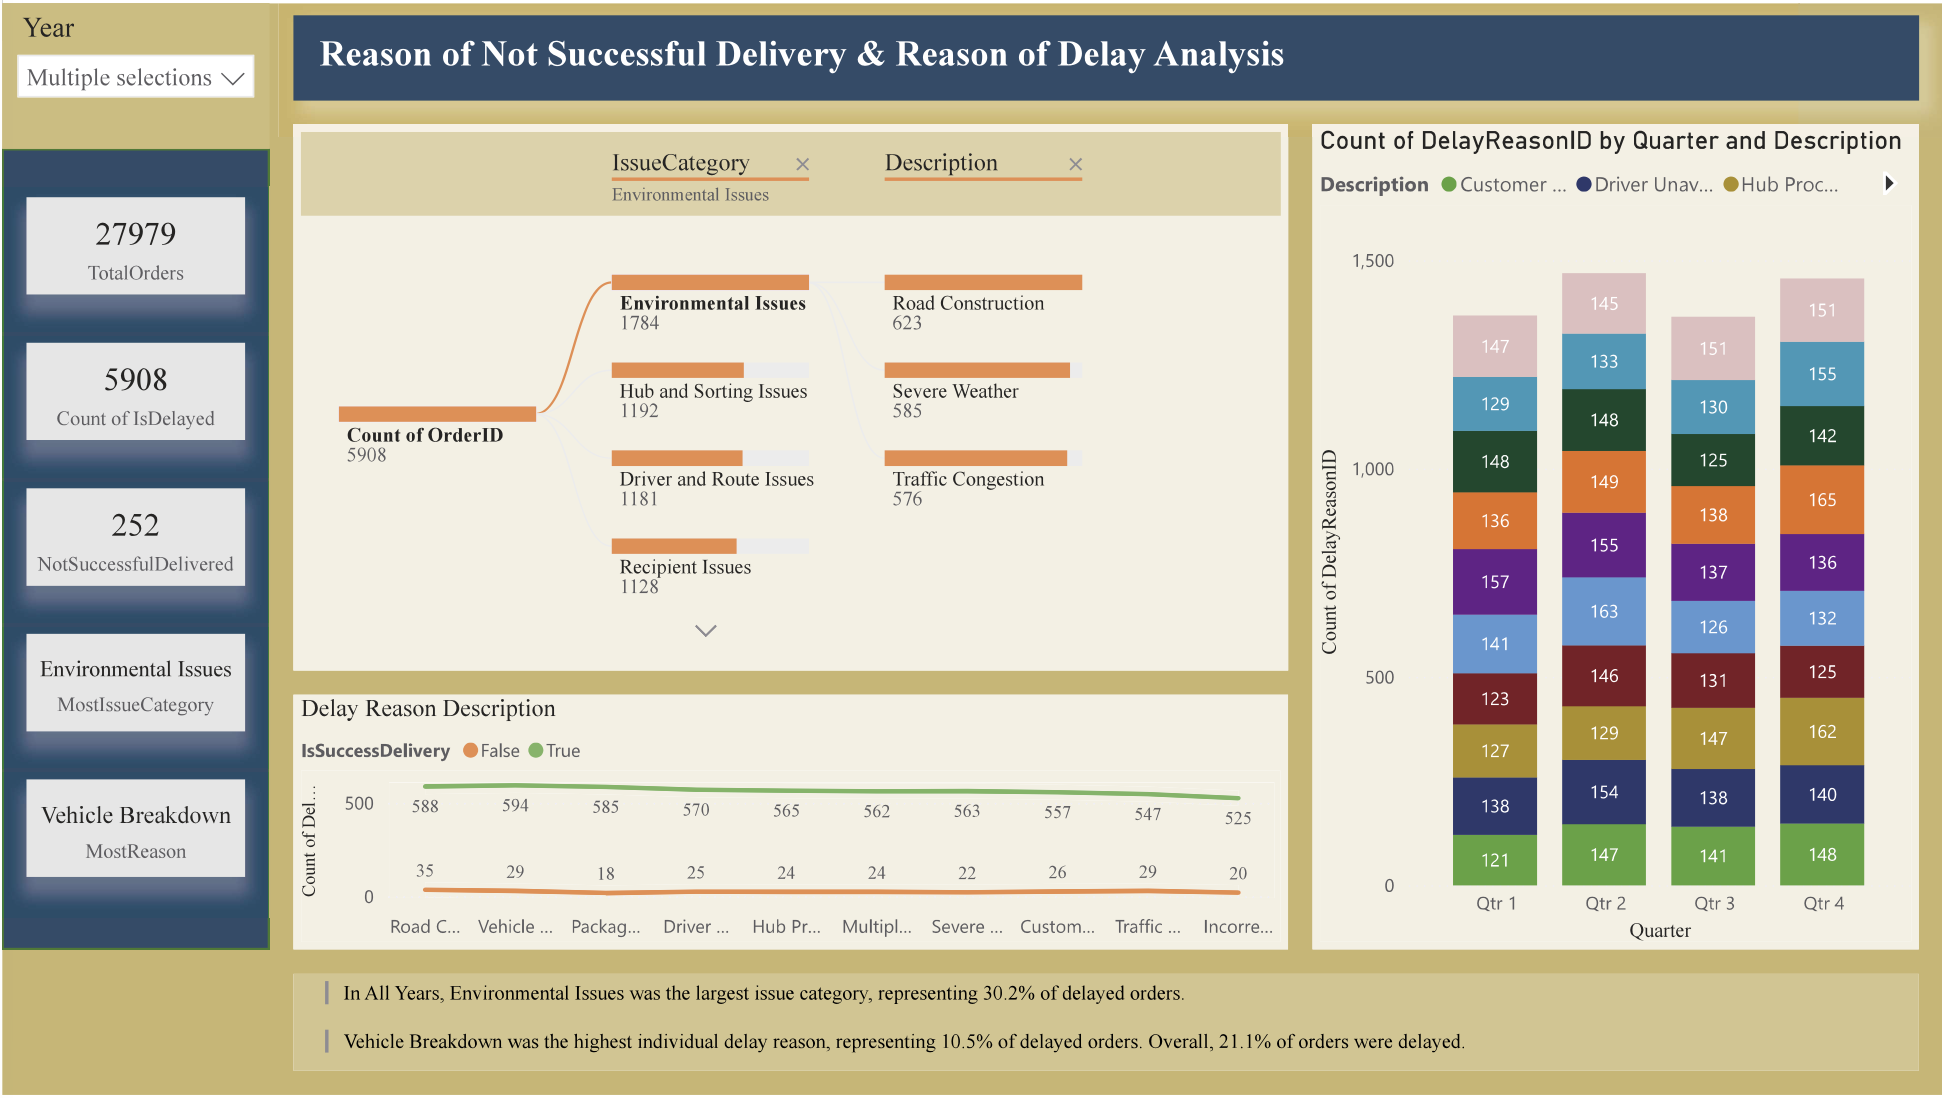

What the dashboard file says about the page in this screenshot:
{"tool":"powerbi","page":{"name":"Reason Analysis","canvas":[1280,720],"ordinal":2},"visuals":[{"type":"shape","box":[0,96,176,528],"z":0},{"type":"card","fields":{"Values":["FACT-Orders.TotalOrders"]},"box":[16,128,144,64],"z":1000},{"type":"slicer","fields":{"Values":["FACT-Orders.OrderDate.Variation.Date Hierarchy.Year"]},"box":[0,0,176,96],"z":2000},{"type":"card","fields":{"Values":["CountNonNull(FACT-Orders.IsDelayed)"]},"box":[16,224,144,64],"z":3000},{"type":"card","fields":{"Values":["FACT-Orders.NotSuccessfulDelivered"]},"box":[16,320,144,64],"z":4000},{"type":"card","fields":{"Values":["FACT-Orders.MaxCountCategoryName"]},"box":[16,416,144,64],"z":5000},{"type":"card","fields":{"Values":["FACT-Orders.MostReasonOffailORdelay"]},"box":[16,512,144,64],"z":6000},{"type":"textbox","box":[192,8,1072,56],"z":7000},{"type":"decompositionTreeVisual","fields":{"ExplainBy":["DIM-Issues.IssueCategory","DIM-DelayReason.Description"],"Analyze":["CountNonNull(FACT-Orders.OrderID)"]},"box":[192,80,656,360],"z":8000},{"type":"lineChart","title":"Delay Reason Description","fields":{"Category":["DIM-DelayReason.Description"],"Y":["CountNonNull(FACT-Orders.DelayReasonID)"],"Series":["FACT-Orders.IsSuccessDelivery"]},"box":[192,456,656,168],"z":9000},{"type":"columnChart","fields":{"Category":["FACT-Orders.ActualDeliveryDate.Variation.Date Hierarchy.Quarter"],"Y":["CountNonNull(FACT-Orders.DelayReasonID)"],"Series":["DIM-DelayReason.Description"]},"box":[864,80,400,544],"z":10000},{"type":"shape","box":[192,640,1072,64],"z":11000},{"type":"multiRowCard","fields":{"Values":["FACT-Orders.ReasonInsight"]},"box":[208,640,1024,32],"z":12000},{"type":"multiRowCard","fields":{"Values":["FACT-Orders.ReasonInsight2"]},"box":[208,672,1024,32],"z":13000}]}

Visuals, with their boxes in screenshot pixels (x1, y1, x2, y2), scaled from the page's 1280x720 canvas onto the 1942x1098 screenshot:
shape: 0 146 267 952
card - FACT-Orders.TotalOrders: 24 195 243 293
slicer - FACT-Orders.OrderDate.Variation.Date Hierarchy.Year: 0 0 267 146
card - CountNonNull(FACT-Orders.IsDelayed): 24 342 243 439
card - FACT-Orders.NotSuccessfulDelivered: 24 488 243 586
card - FACT-Orders.MaxCountCategoryName: 24 634 243 732
card - FACT-Orders.MostReasonOffailORdelay: 24 781 243 878
textbox: 291 12 1918 98
decompositionTreeVisual - DIM-Issues.IssueCategory x DIM-DelayReason.Description: 291 122 1287 671
"Delay Reason Description" lineChart: 291 695 1287 952
columnChart - FACT-Orders.ActualDeliveryDate.Variation.Date Hierarchy.Quarter x CountNonNull(FACT-Orders.DelayReasonID): 1311 122 1918 952
shape: 291 976 1918 1074
multiRowCard - FACT-Orders.ReasonInsight: 316 976 1869 1025
multiRowCard - FACT-Orders.ReasonInsight2: 316 1025 1869 1074
